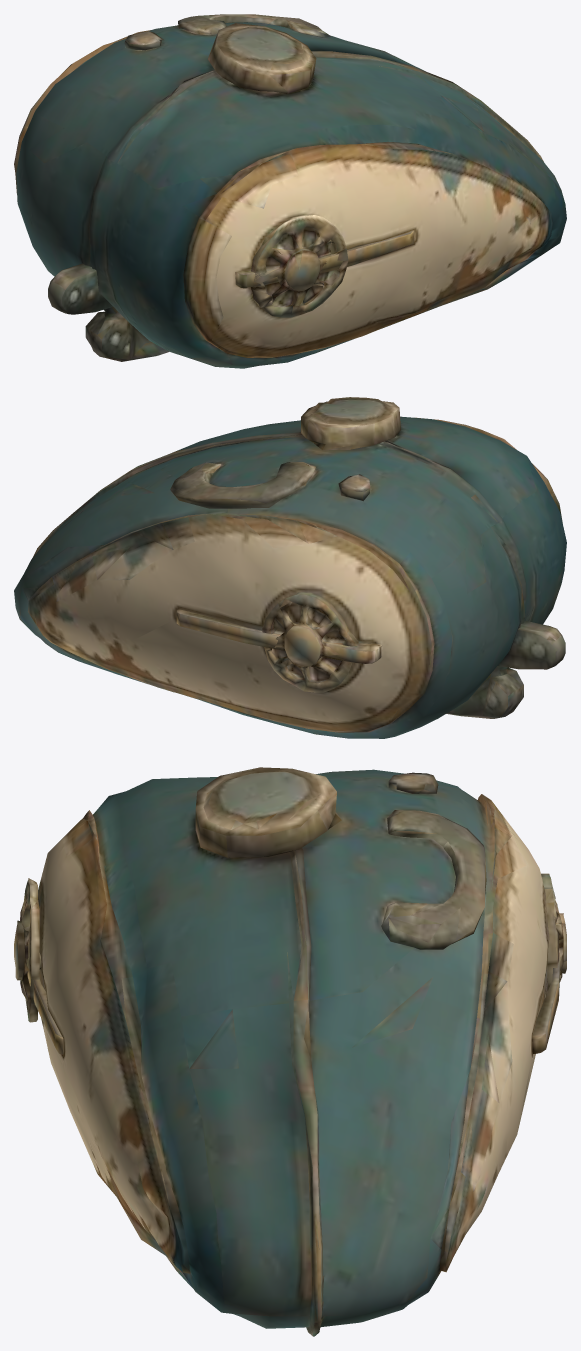
File: vehicle_part_tank.glb
The picture shows the model from 3 angles, top to bottom: view 1: azimuth 30°, elevation 25°; view 2: azimuth 150°, elevation 25°; view 3: azimuth 270°, elevation 25°; orthographic projection. The views are drawn at different scales.
Bounding box in the file's own units: 0.2427 × 0.127 × 0.168.
1 material, 1 textured.
